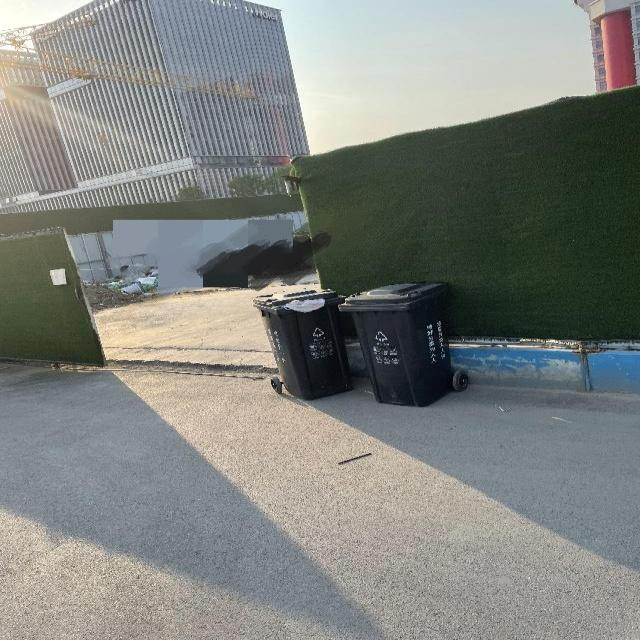garbage_bin: (337, 280, 453, 406)
overflow: (251, 288, 350, 400)
